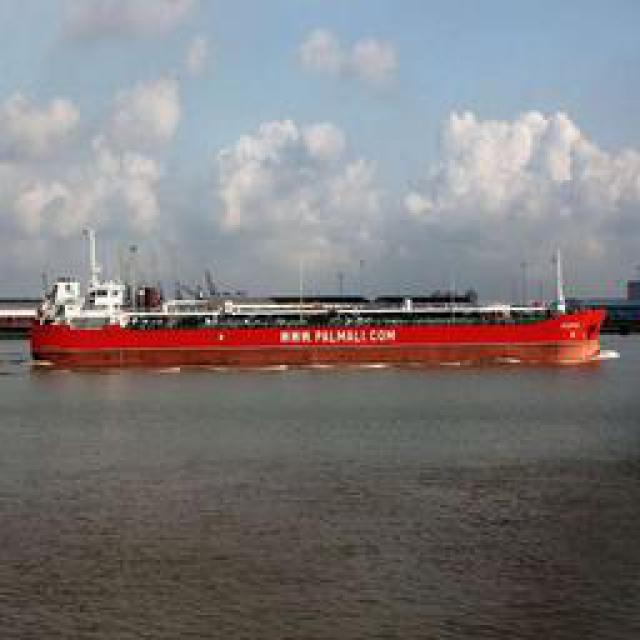Ship: (40, 272, 593, 370)
